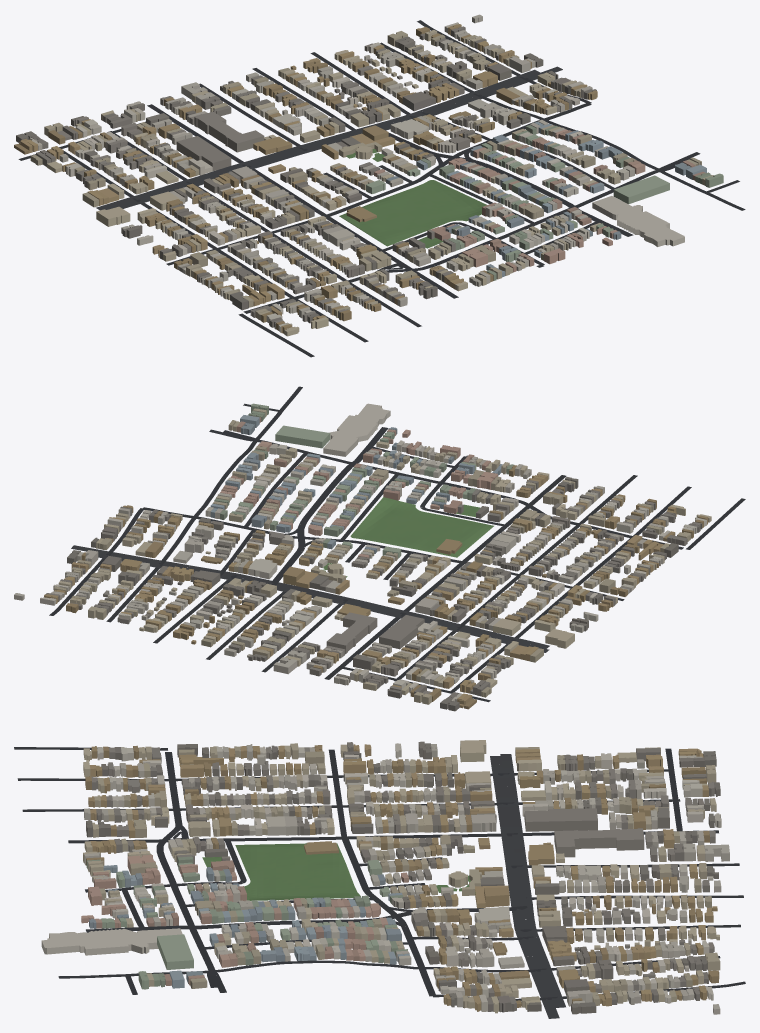
Rendered from tile_7_12.glb.
3 renders of one model, top to bottom at view 1: azimuth 30°, elevation 25°; view 2: azimuth 150°, elevation 25°; view 3: azimuth 270°, elevation 25°, orthographic. The views are drawn at different scales.
Visible parts, largest first — view 1: bld_7_12, road_7_12, grn_7_12; view 2: bld_7_12, road_7_12, grn_7_12; view 3: bld_7_12, road_7_12, grn_7_12.
Boxes of the visible parts, box(x1,y1,x2,y2) form: bld_7_12: box(14, 14, 723, 336); road_7_12: box(18, 20, 745, 357); grn_7_12: box(339, 149, 486, 248); bld_7_12: box(14, 403, 711, 711); road_7_12: box(49, 386, 745, 702); grn_7_12: box(321, 497, 493, 577); bld_7_12: box(41, 740, 729, 1014); road_7_12: box(14, 747, 745, 1018); grn_7_12: box(202, 843, 475, 900).
Bounding box in the file's own units: 841 × 56.89 × 927.
